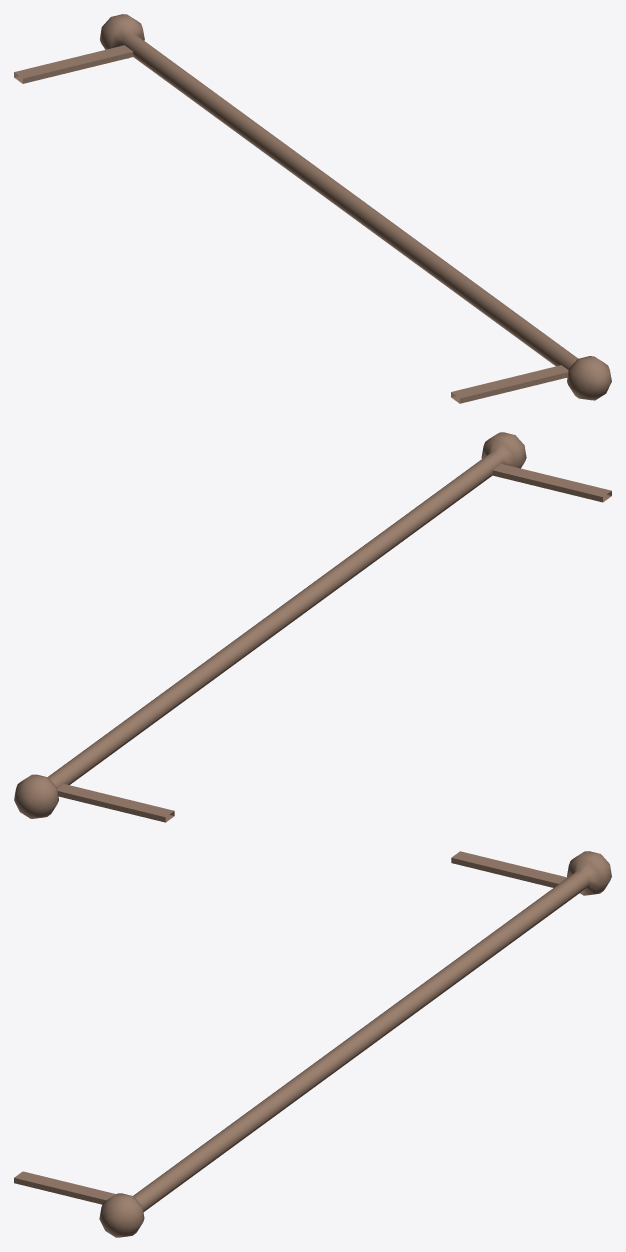
Rendered from CurtainRod.fbx.
The picture shows the model from 3 angles, top to bottom: view 1: azimuth 30°, elevation 25°; view 2: azimuth 150°, elevation 25°; view 3: azimuth 330°, elevation 25°; orthographic projection.
Visible parts, largest first — view 1: Curtain_rod; view 2: Curtain_rod; view 3: Curtain_rod.
Part boxes in pixels (x1,y1,x2,y2): Curtain_rod: [14, 14, 611, 403]; Curtain_rod: [14, 432, 611, 822]; Curtain_rod: [14, 851, 611, 1237].
Bounding box in the file's own units: 48.01 × 13.15 × 295.
